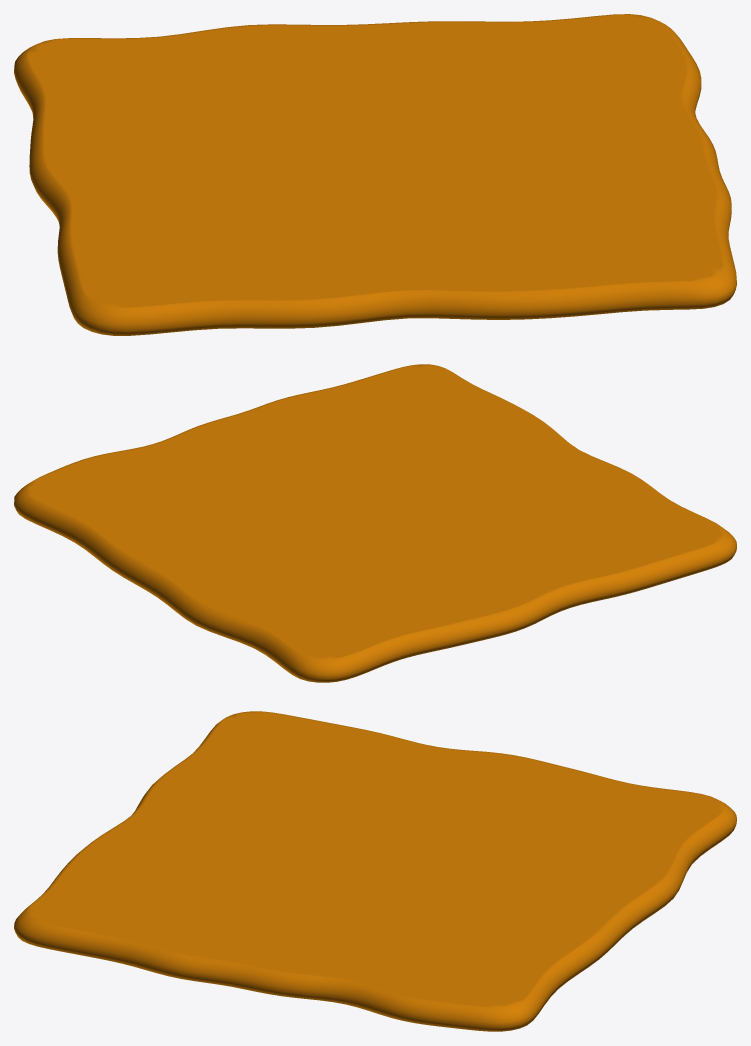
The model's file is testmodelsCube_100.fbx.
The picture shows the model from 3 angles, top to bottom: view 1: azimuth 30°, elevation 25°; view 2: azimuth 150°, elevation 25°; view 3: azimuth 270°, elevation 25°; orthographic projection. The views are drawn at different scales.
Parts seen in each view (by area): view 1: Cube.100; view 2: Cube.100; view 3: Cube.100.
Boxes of the visible parts, <box> form: Cube.100: <box>14,14,736,335</box>; Cube.100: <box>14,364,736,682</box>; Cube.100: <box>14,711,736,1031</box>.
Bounding box in the file's own units: 900 × 27.73 × 898.
